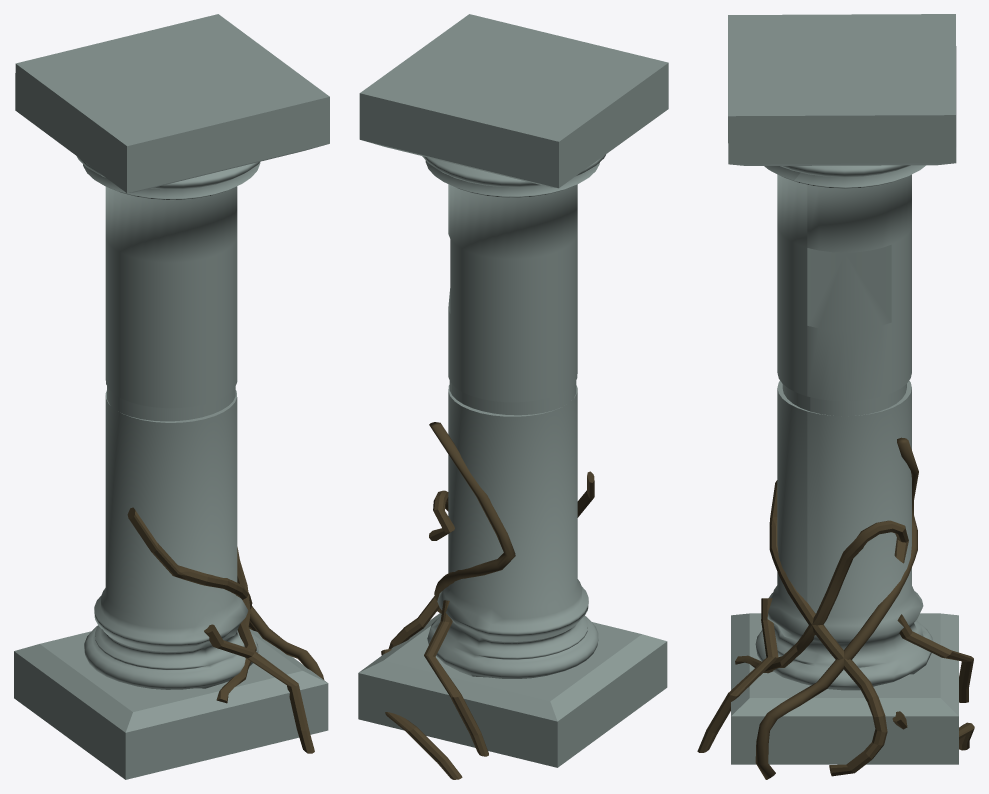
Rendered from SPRING(Pillar).fbx.
The picture shows the model from 3 angles, left to right: view 1: azimuth 30°, elevation 25°; view 2: azimuth 150°, elevation 25°; view 3: azimuth 270°, elevation 25°; orthographic projection. The views are drawn at different scales.
Parts seen in each view (by area): view 1: Cylinder, Cube.001, Cube, Cylinder.007, Cylinder.002, Cylinder.003, Cylinder.004; view 2: Cylinder, Cube.001, Cube, Cylinder.004, Cylinder.005, Cylinder.002, Cylinder.006, Cylinder.003; view 3: Cylinder, Cube.001, Cube, Cylinder.004, Cylinder.002, Cylinder.003, Cylinder.007, Cylinder.005, Cylinder.006.
Boxes of the visible parts, box(x1,y1,x2,y2) form: Cylinder: box(76, 156, 260, 689); Cube.001: box(15, 14, 329, 193); Cube: box(14, 629, 328, 779); Cylinder.007: box(204, 624, 314, 753); Cylinder.002: box(127, 507, 257, 631); Cylinder.003: box(216, 547, 256, 703); Cylinder.004: box(249, 606, 324, 679); Cylinder: box(422, 154, 605, 678); Cube.001: box(359, 14, 668, 188); Cube: box(358, 613, 667, 767); Cylinder.004: box(429, 422, 515, 613); Cylinder.005: box(424, 600, 488, 756); Cylinder.002: box(388, 471, 594, 649); Cylinder.006: box(381, 649, 462, 779); Cylinder.003: box(429, 490, 454, 540); Cylinder: box(755, 165, 932, 690); Cube.001: box(728, 14, 956, 165); Cube: box(731, 613, 958, 764); Cylinder.004: box(755, 437, 918, 779); Cylinder.002: box(769, 480, 887, 776); Cylinder.003: box(735, 520, 908, 673); Cylinder.007: box(697, 598, 778, 752); Cylinder.005: box(897, 614, 973, 702); Cylinder.006: box(892, 711, 974, 750).
Bounding box in the file's own units: 253 × 750 × 275.
